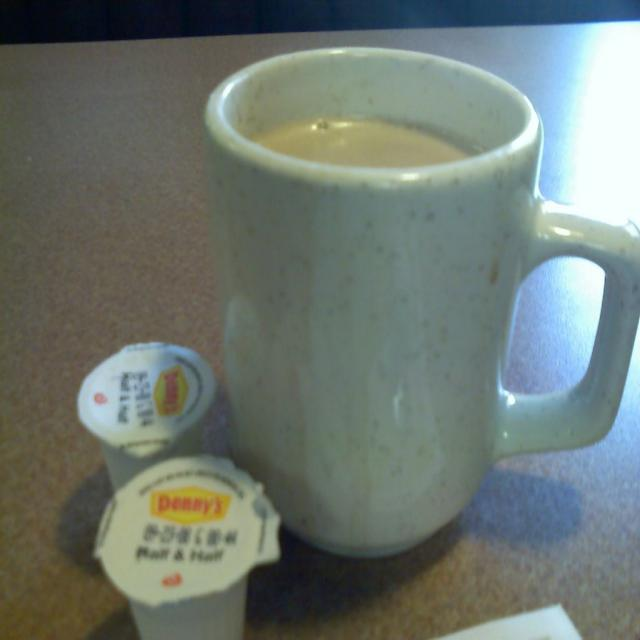Coffee: (215, 48, 622, 562)
